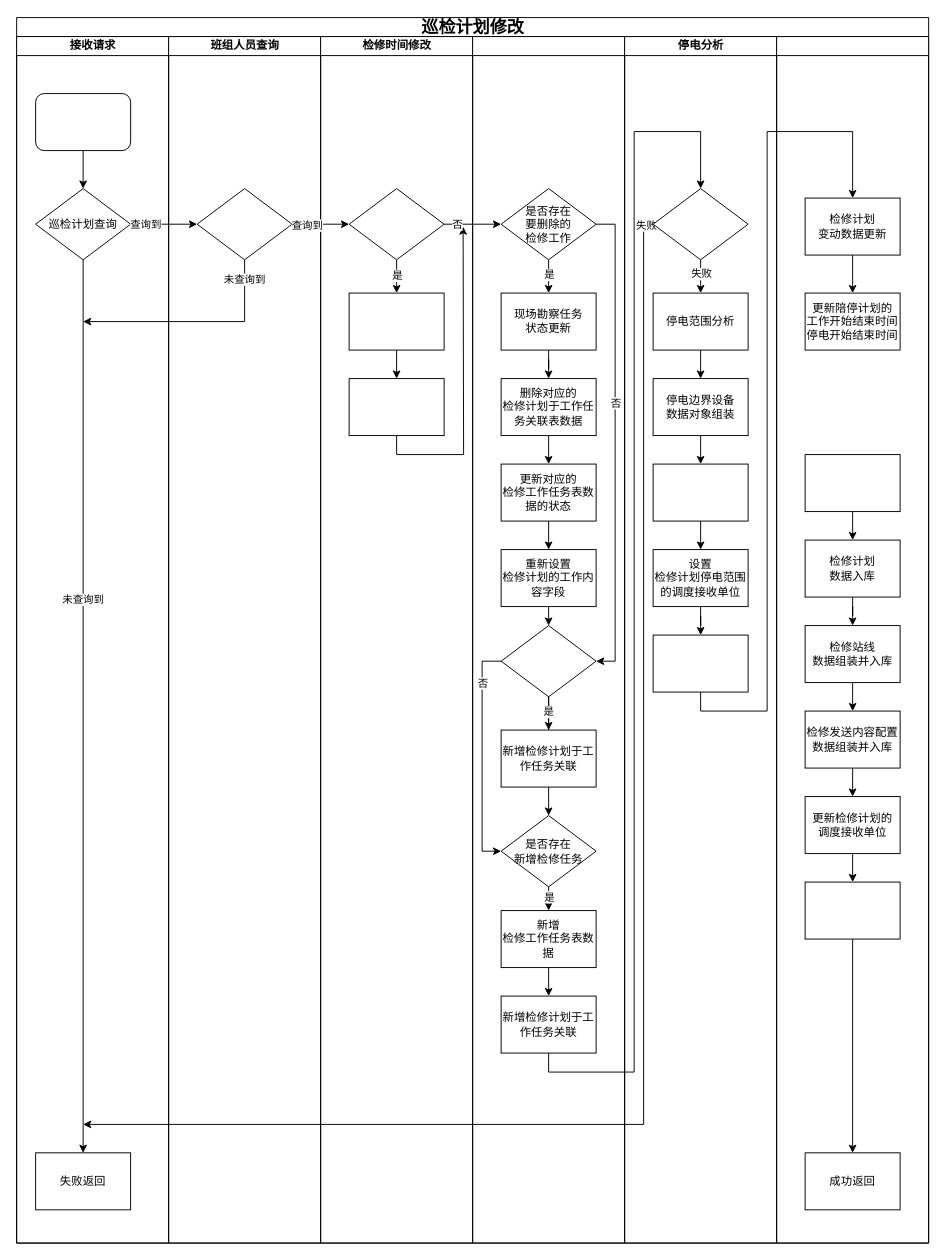
Image size: 945x1260. Some labels were removed from this diagram. Here are the shapes that lost their labels. From the top down, the box of each, then its label:
(35, 93, 131, 151): 开始
(196, 188, 292, 260): 查询班组人员
(348, 188, 444, 260): 是否修改 检修时间
(652, 188, 748, 260): 调用中台接口 分析供电范围
(348, 292, 444, 350): 重新生成检修计划 工作开始结束时间 停电开始结束时间
(348, 378, 444, 436): 检修计划工作 更新 计划工作开始结束时间
(652, 463, 748, 521): 检修计划停电范围 数据对象组装
(804, 454, 900, 512): 检修计划 作业风险等级、 设备最高压等级设置
(472, 36, 625, 1243): 检修工作处理
(776, 36, 929, 1243): 数据完善并保存
(500, 625, 596, 697): 是否存在 新增来字缺陷隐患 的检修任务
(652, 634, 748, 692): 停电边界设备 检修计划停电范围 保存到数据库
(804, 881, 900, 939): 检修扩展属性 数据组装并入库
